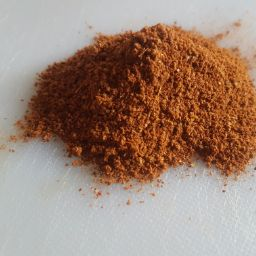Cinemon powder: (3, 22, 256, 184), (40, 23, 256, 193)
